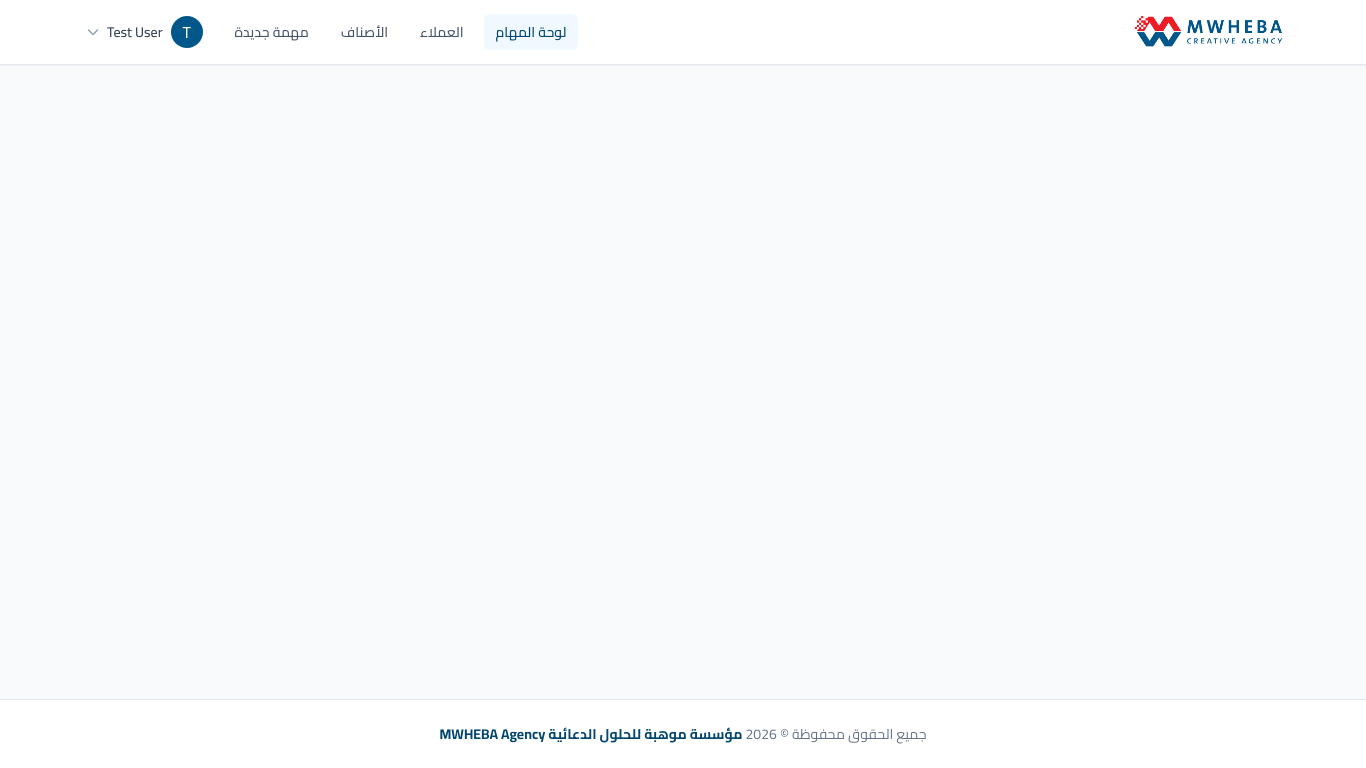
Test: Layout Component › opens user menu on button click
Step 1. Click the button "T Test User" → (145, 32), box [75,8,215,56]
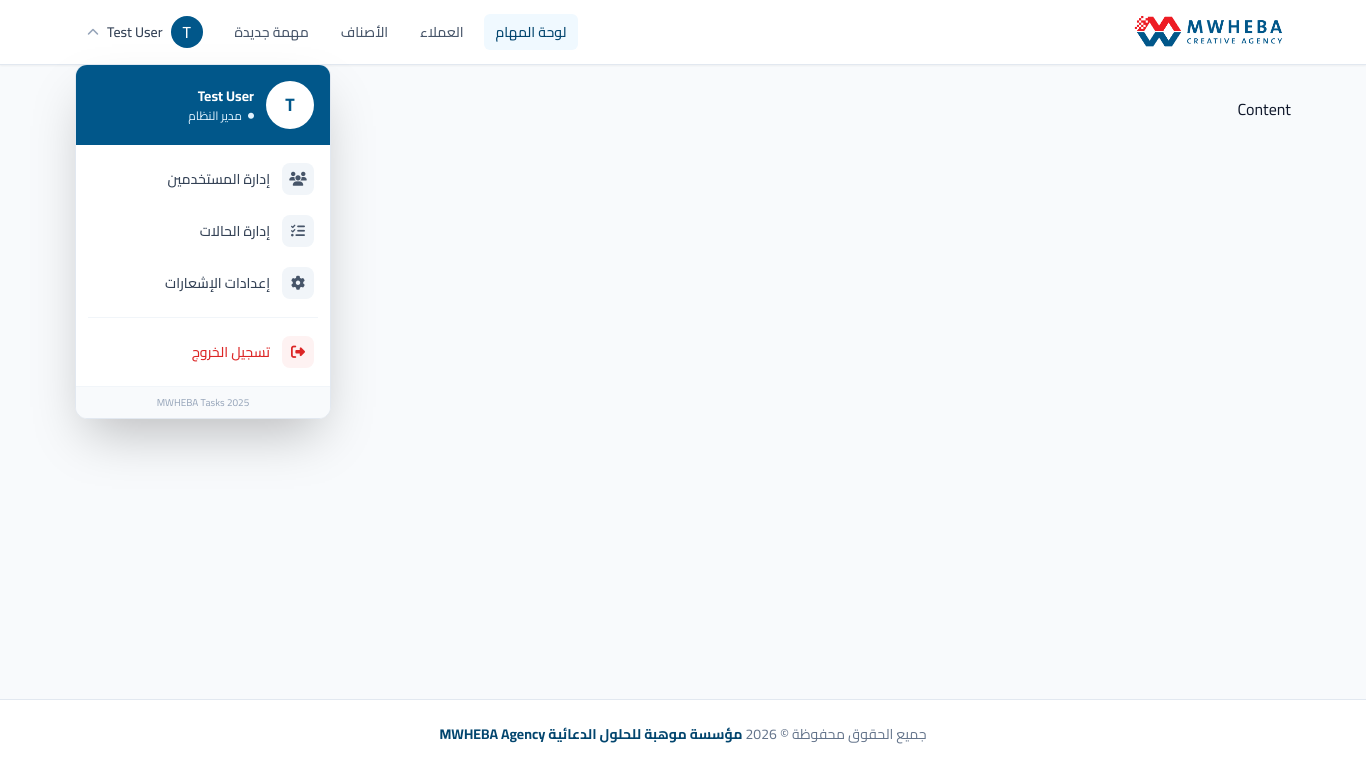
Expected: the text "إدارة المستخدمين" is shown, [167,169,270,189]
Expected: the text "إدارة الحالات" is shown, [200,221,270,241]
Expected: the text "تسجيل الخروج" is shown, [192,342,270,362]
